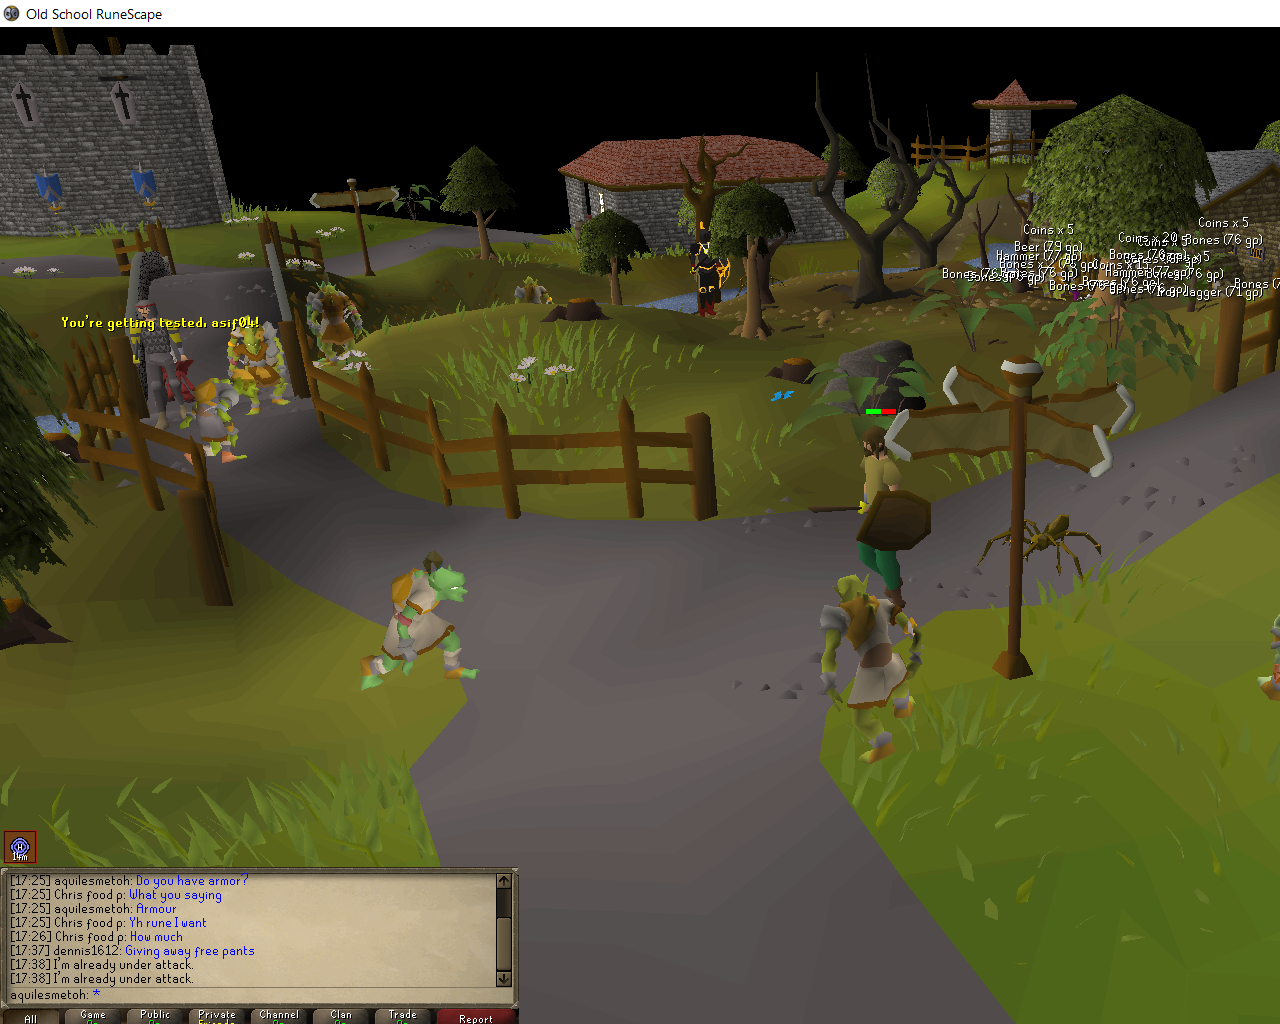Goblin: (812, 572, 926, 762), (364, 552, 475, 693), (192, 370, 261, 468), (220, 335, 299, 410), (311, 285, 370, 368), (226, 316, 283, 382), (512, 274, 558, 304)
